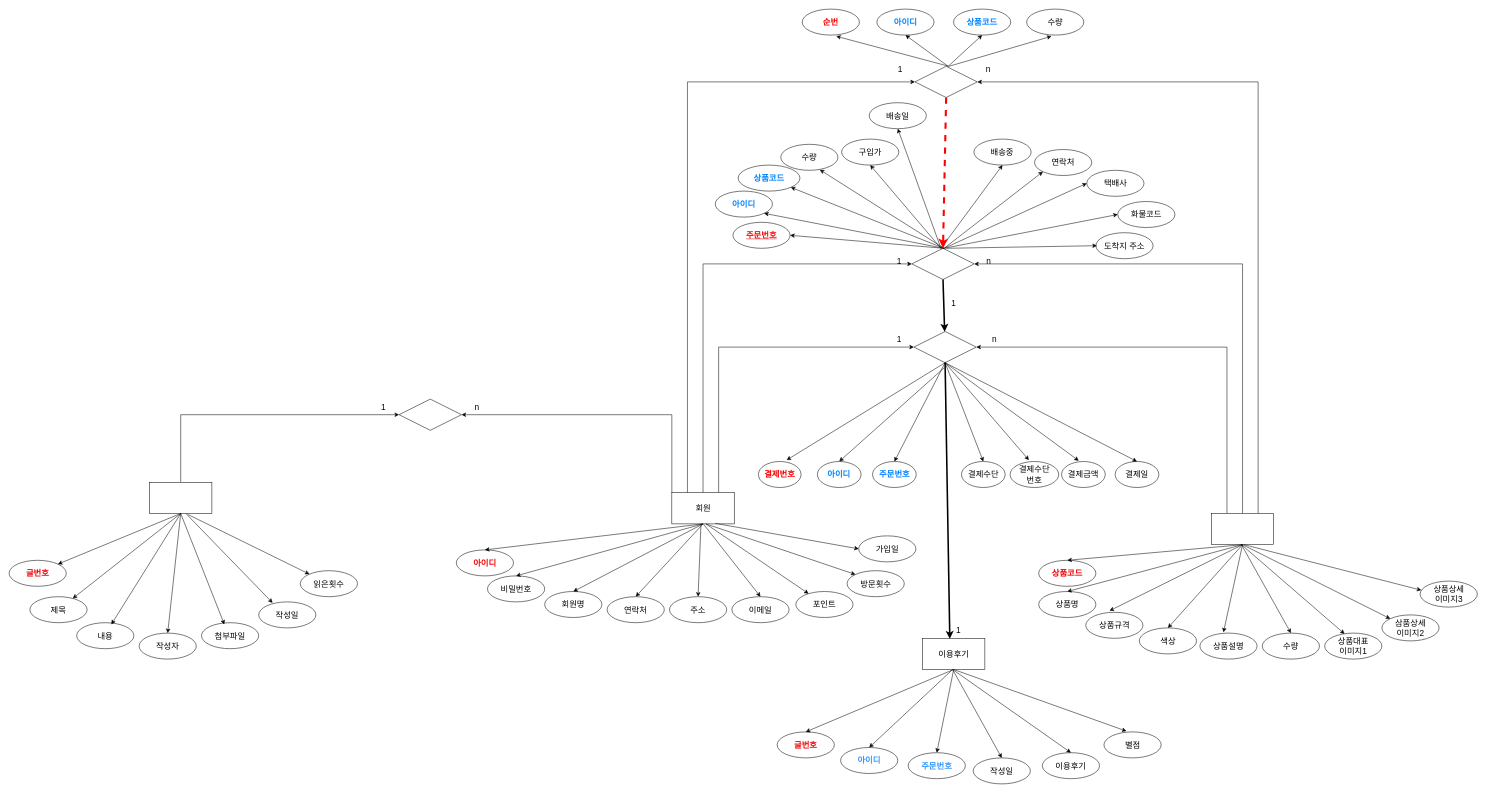
This 1487x793 diagram has some shape labels left out. The shapes that lost their labels are listed below. From the top down, each one's box as (x1, y1, x2, y2) in pixels, then its label:
(914, 66, 977, 98): 장바구니
(911, 248, 974, 280): 주문
(913, 331, 976, 363): 결제
(399, 399, 462, 430): 작성
(149, 482, 212, 514): 공지사항
(1211, 513, 1274, 545): 상품
